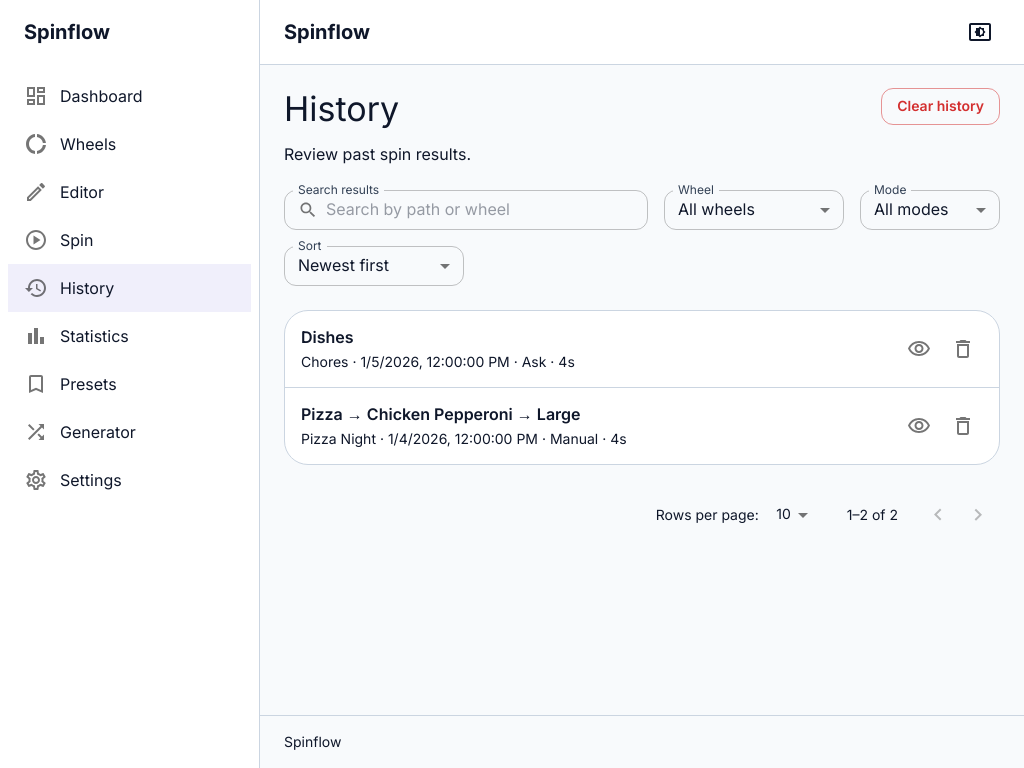
Test: HistoryScreen › shows an empty state when filters match no results
This screenshot has width=1024, height=768.
In the field labelled "Search results": point(487, 210) [326,190,648,230], type "zzzzz"
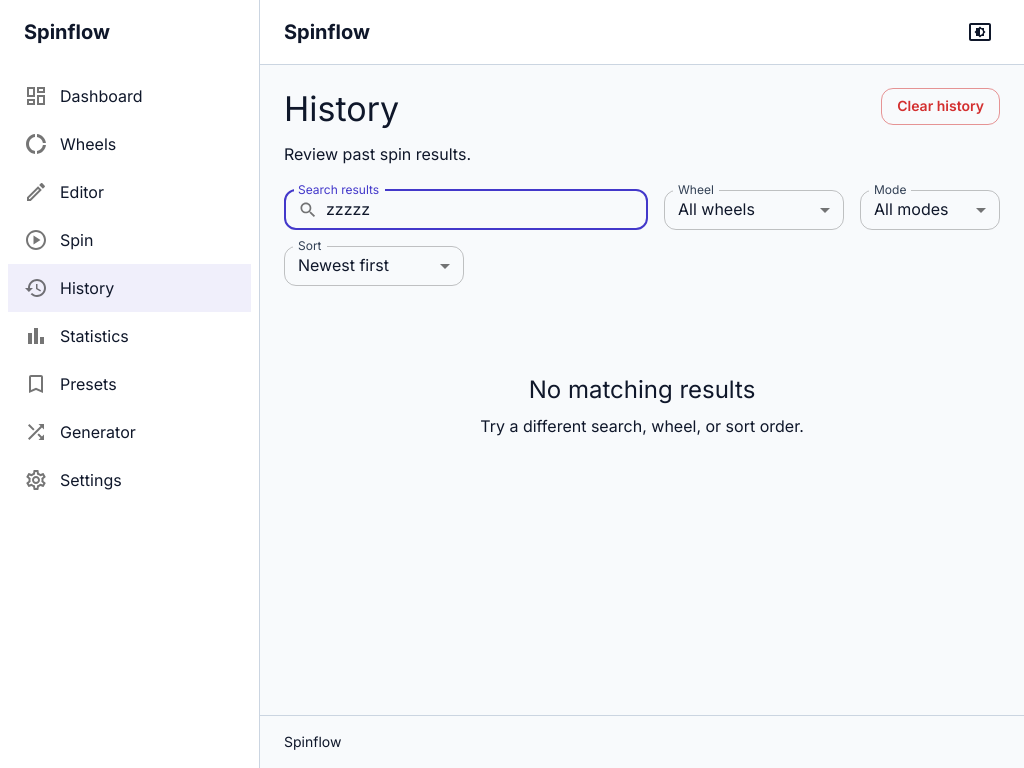
Result: the heading "No matching results" is shown at [529,375,755,404]
Result: the text "Try a different search, wheel, or sort order." is shown at [480,416,804,436]
Result: the button "Dishes" is gone
